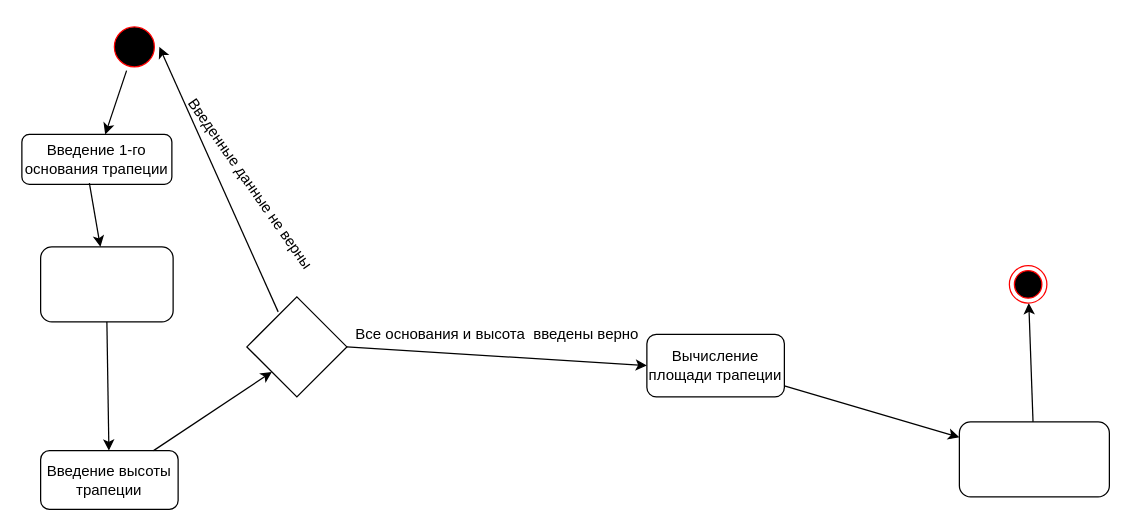
Image size: 1131x531. Some labels were removed from this diagram. The shapes that lost their labels are listed below. From the top down, each one's centre as x and y in pixels, then its label:
(106,284): Введение 2-го основания трапеции
(1033,459): Вывод результата на экран
